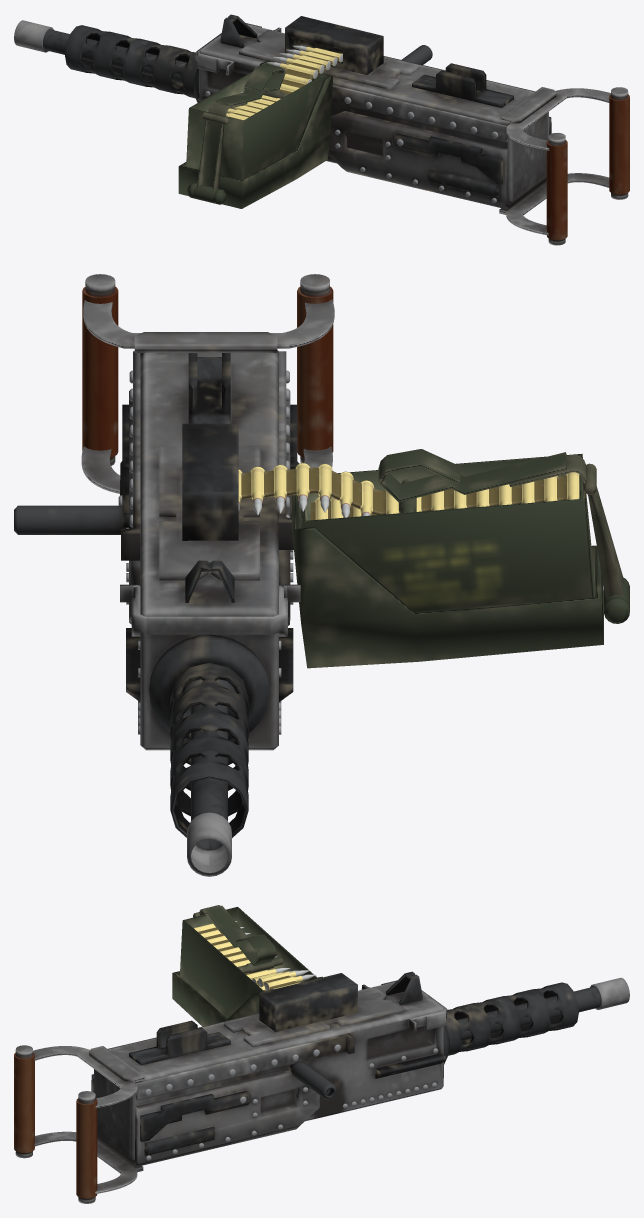
The model's file is Turret.glb.
3 renders of one model, top to bottom at view 1: azimuth 30°, elevation 25°; view 2: azimuth 150°, elevation 25°; view 3: azimuth 270°, elevation 25°, orthographic. The views are drawn at different scales.
Visible parts, largest first — view 1: MachineGun1Shape; view 2: MachineGun1Shape; view 3: MachineGun1Shape.
Part boxes in pixels (x1,y1,x2,y2): MachineGun1Shape: (14,14,629,245); MachineGun1Shape: (14,274,629,876); MachineGun1Shape: (14,905,629,1203).
Bounding box in the file's own units: 5.33 × 1.77 × 7.5.
5 materials, 5 textured.
